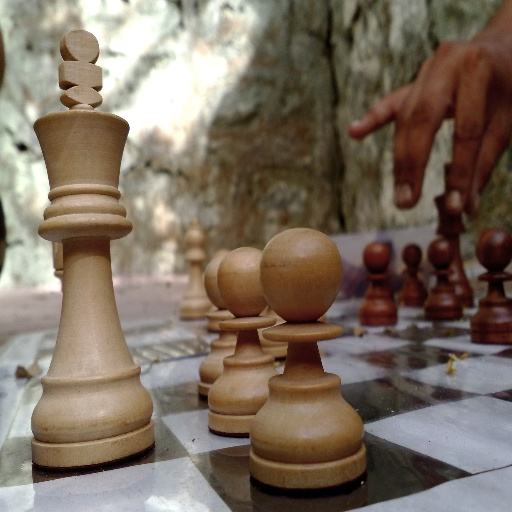hand: (348, 31, 511, 221)
